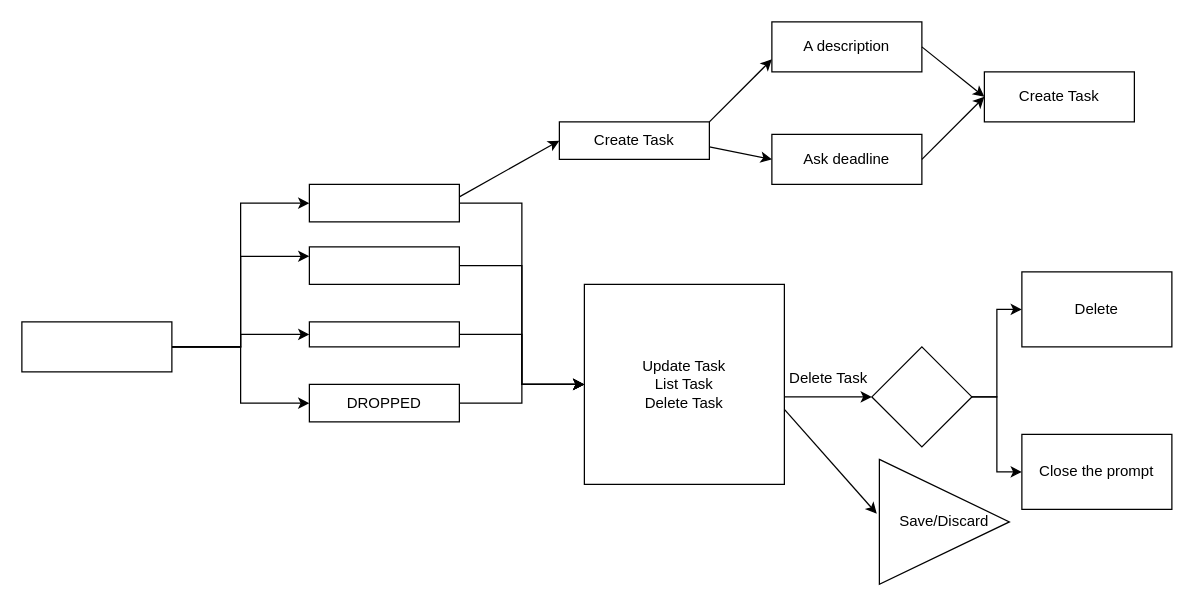
Image size: 1194x606. Some labels were removed from this diagram. Here are the shapes that lost their labels. From the top down, the centre of each, then its label:
At pixel 383 202: "TO DO".
At pixel 383 265: "DOING".
At pixel 96 346: "Home Page".
At pixel 383 334: "DONE".
At pixel 921 396: "Yes/No".
